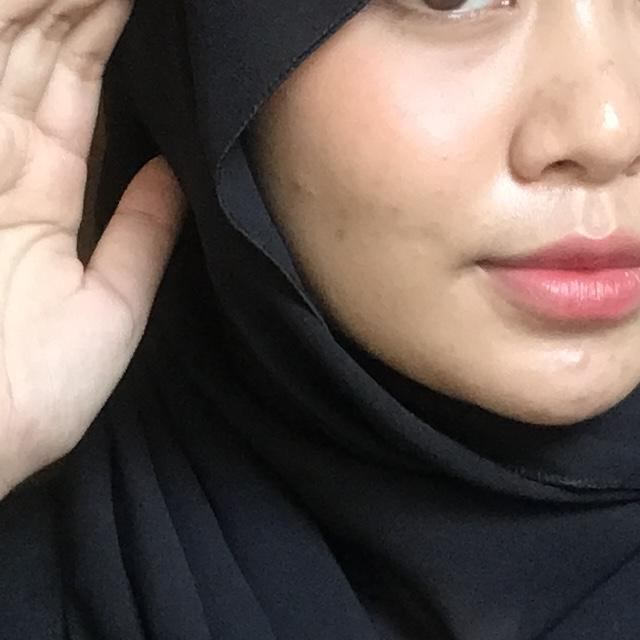mendengar: (0, 0, 230, 546)
